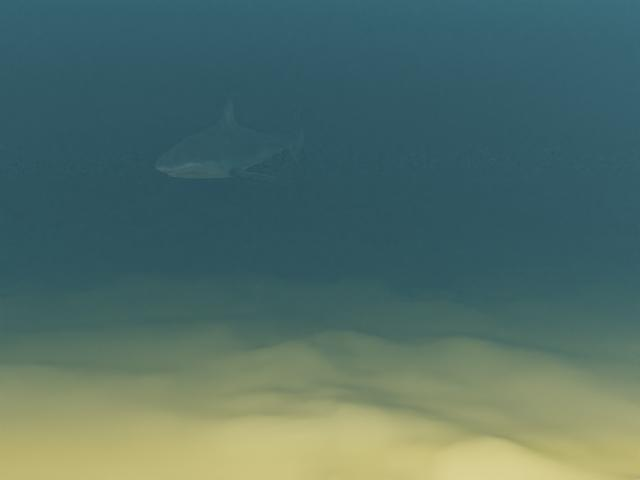Carribean Shark.001: (155, 94, 304, 182)
